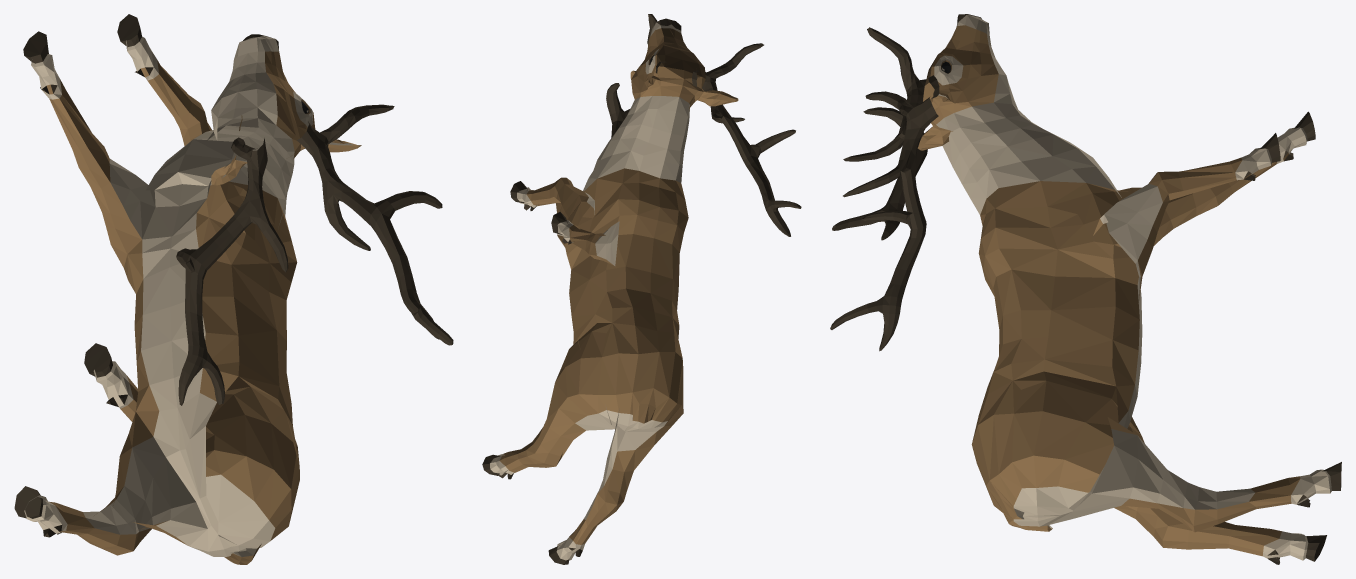
Rendered from stag-gallop-3.glb.
3 renders of one model, left to right at view 1: azimuth 30°, elevation 25°; view 2: azimuth 150°, elevation 25°; view 3: azimuth 270°, elevation 25°, orthographic. The views are drawn at different scales.
Bounding box in the file's own units: 0.8649 × 1.95 × 1.61.
